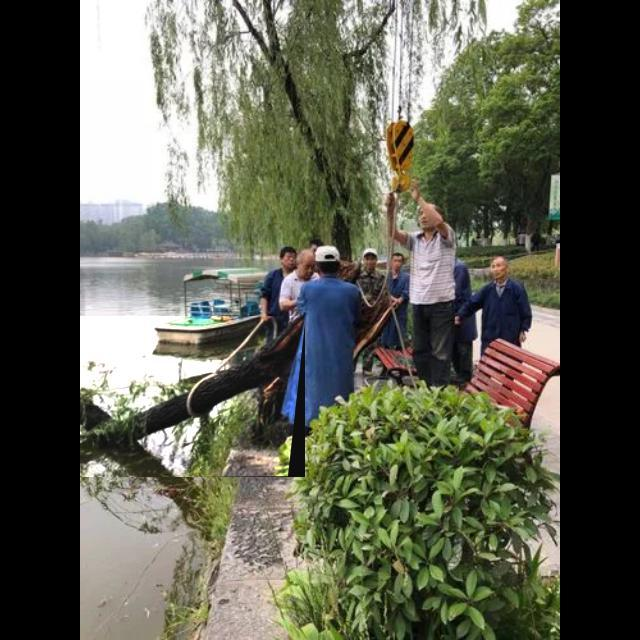fallen_tree: (80, 316, 306, 478)
